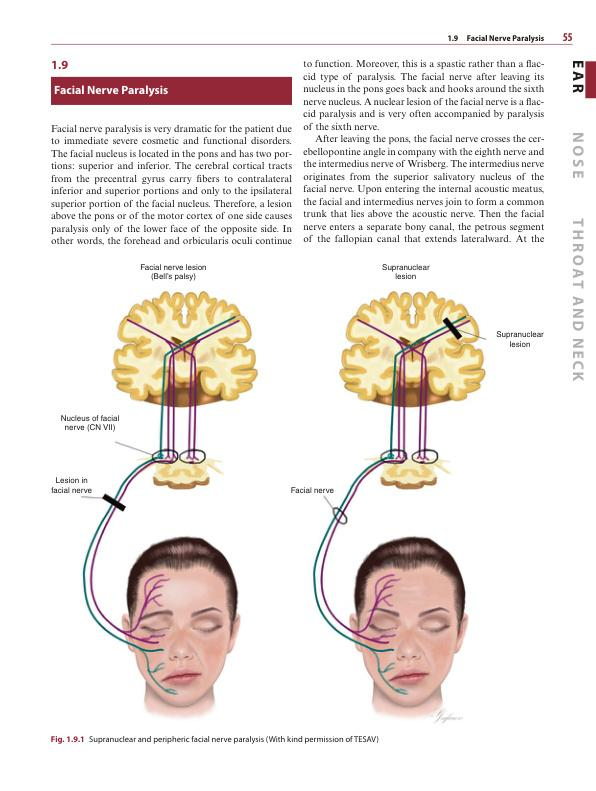caption: (49, 734, 380, 745)
header: (447, 33, 545, 44)
image: (281, 253, 547, 728), (41, 254, 275, 727)
section-heading: (53, 84, 169, 98)
text: (301, 58, 546, 246), (50, 124, 293, 247)
